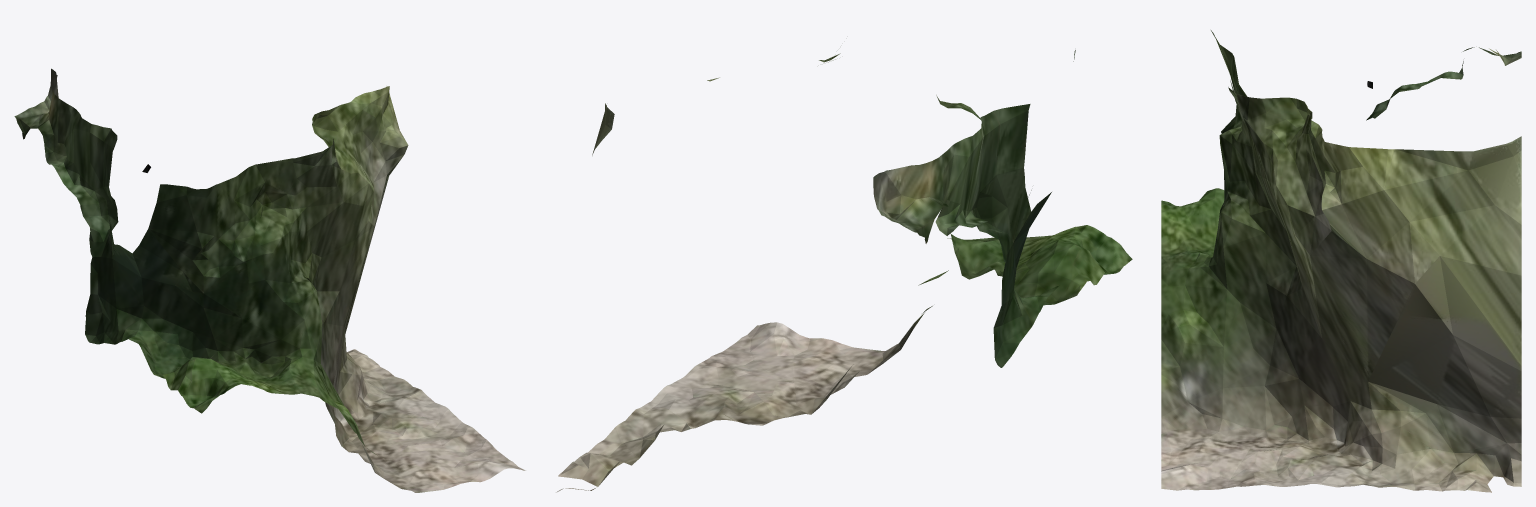
The picture shows the model from 3 angles, left to right: view 1: azimuth 30°, elevation 25°; view 2: azimuth 150°, elevation 25°; view 3: azimuth 270°, elevation 25°; orthographic projection. The views are drawn at different scales.
Bounding box in the file's own units: 5.9 × 5.9 × 5.9.
4 materials, 4 textured.
